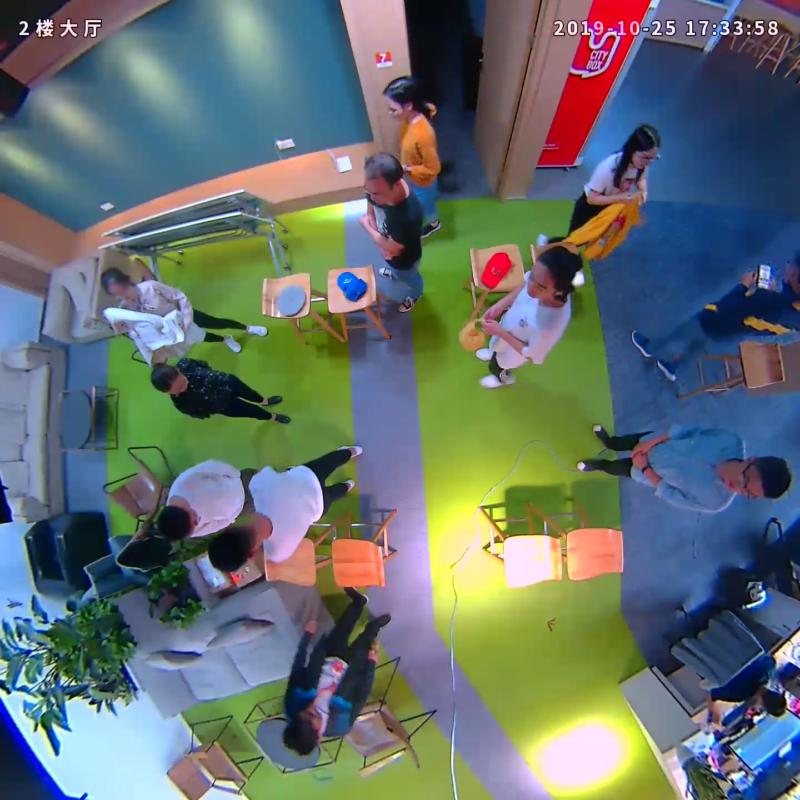head: (722, 454, 791, 499), (206, 521, 261, 573), (527, 246, 573, 301), (364, 152, 403, 205), (284, 706, 323, 757), (381, 75, 423, 119), (157, 504, 200, 540), (626, 125, 660, 170), (100, 266, 137, 301), (151, 364, 188, 394)
